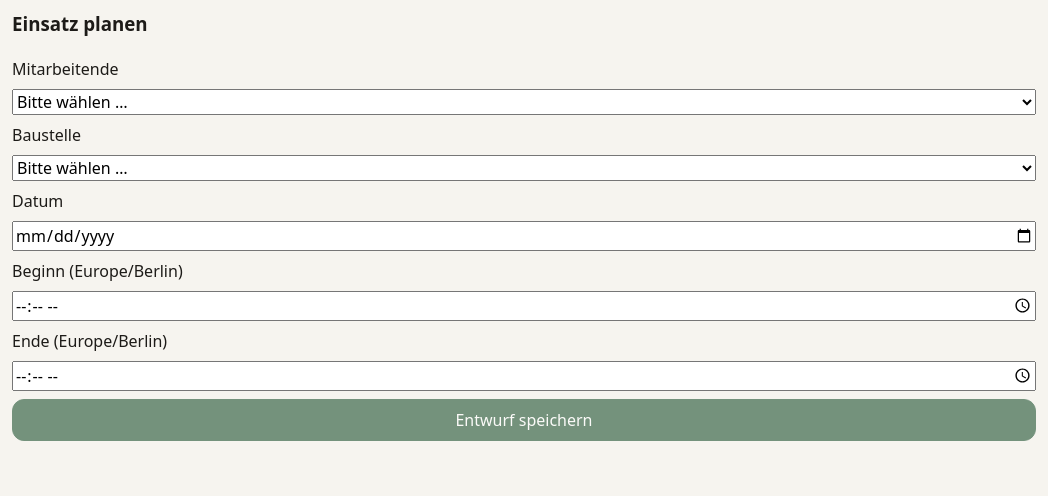
AssignmentForm — vollstaendige Eingabe › leert das Formular NICHT, wenn das Speichern scheitert
Select "Anna Berg" in the dropdown with test id "feld-employee" at (524, 102), box [12,88,1036,114]
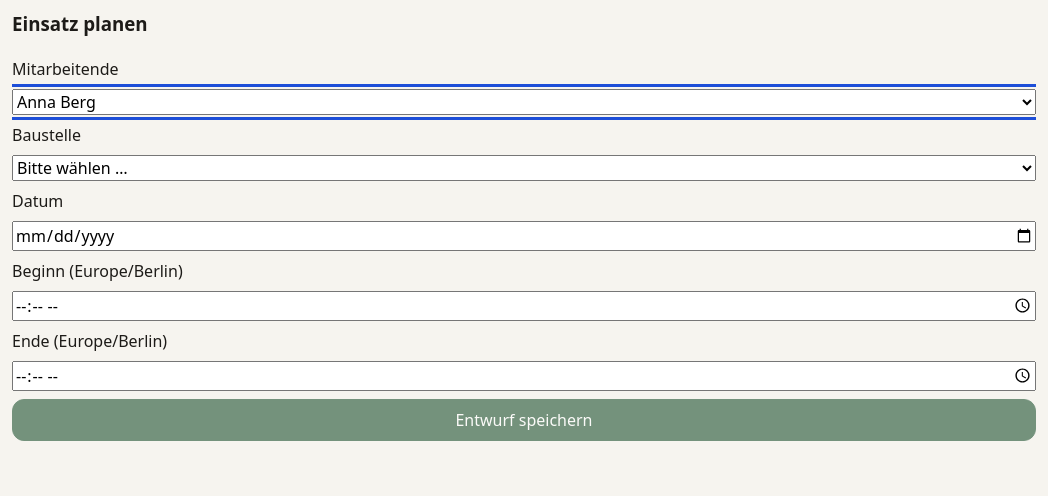
Select "Baustelle Nord" in the dropdown with test id "feld-worksite" at (524, 168), box [12,154,1036,180]
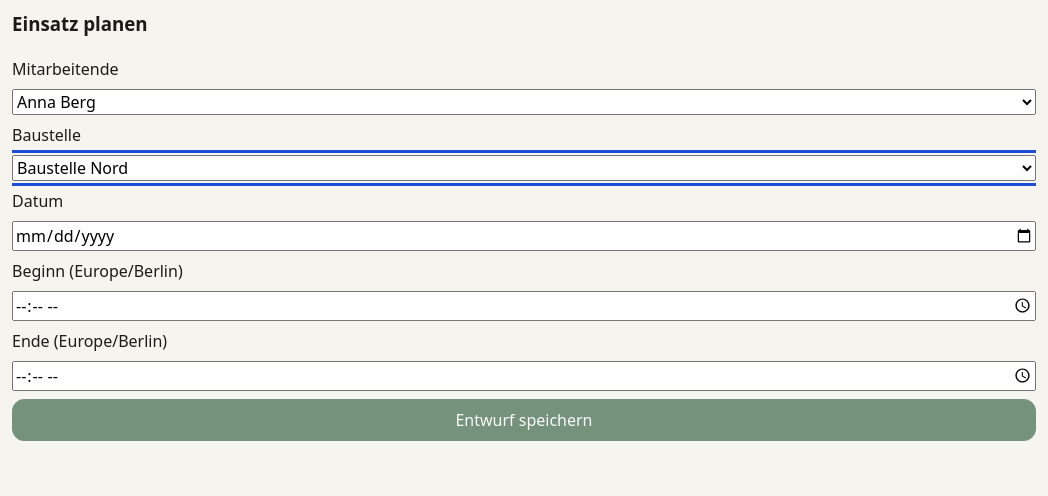
Type "2026-08-03" into the date field with test id "feld-datum" at (524, 236), box [12,220,1036,250]
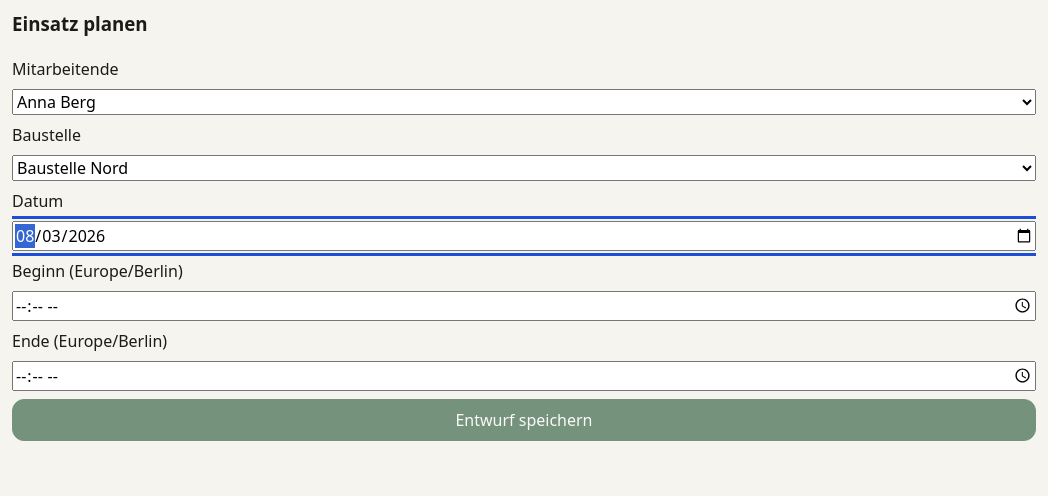
Type "08:00" into the time field with test id "feld-beginn" at (524, 306), box [12,290,1036,320]
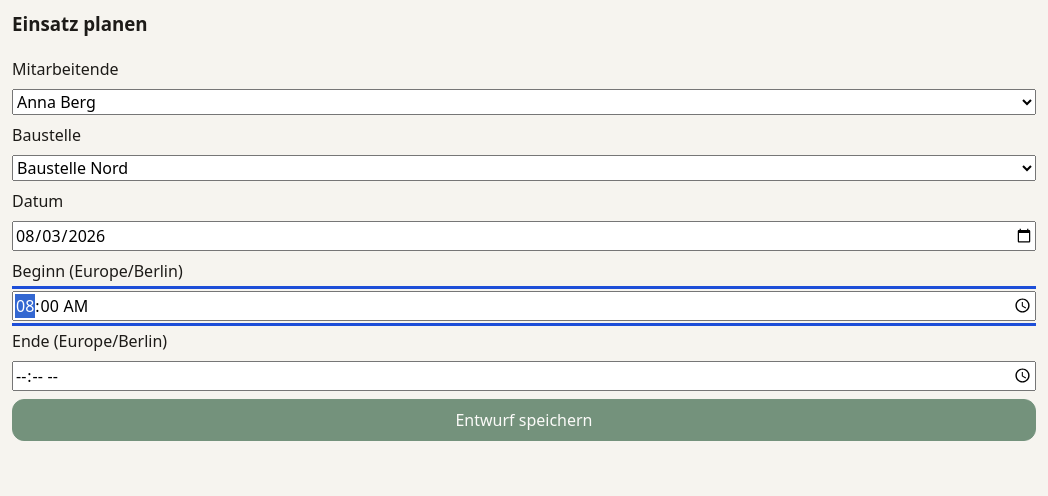
Type "16:00" into the time field with test id "feld-ende" at (524, 376), box [12,360,1036,390]
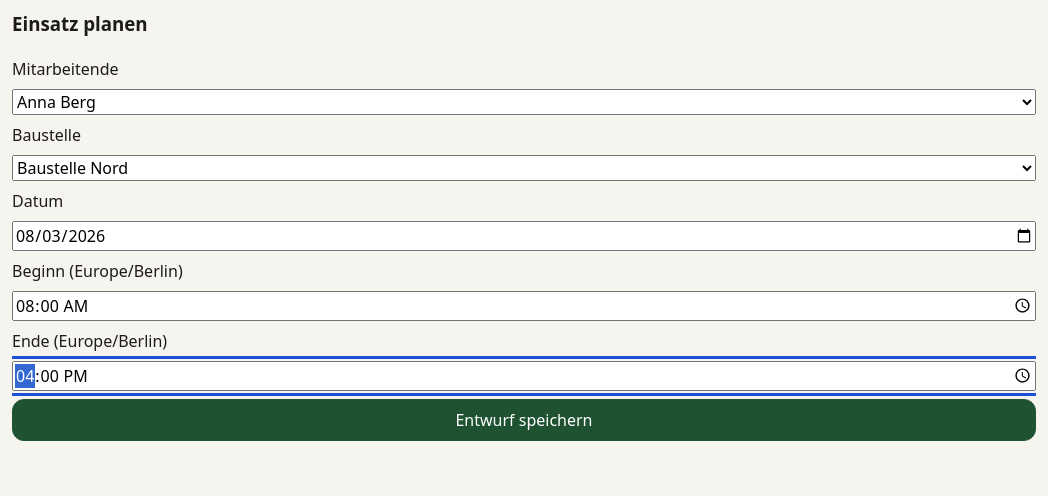
Click the button with test id "einsatz-speichern" at (524, 420), box [12,398,1036,440]
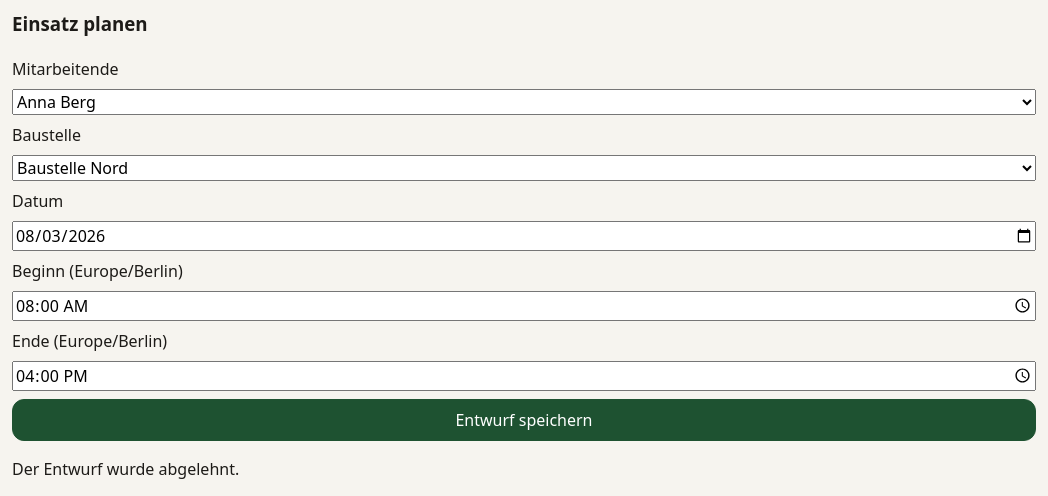
Now the message "Der Entwurf wurde abgelehnt." is shown, box [12,458,239,480]
